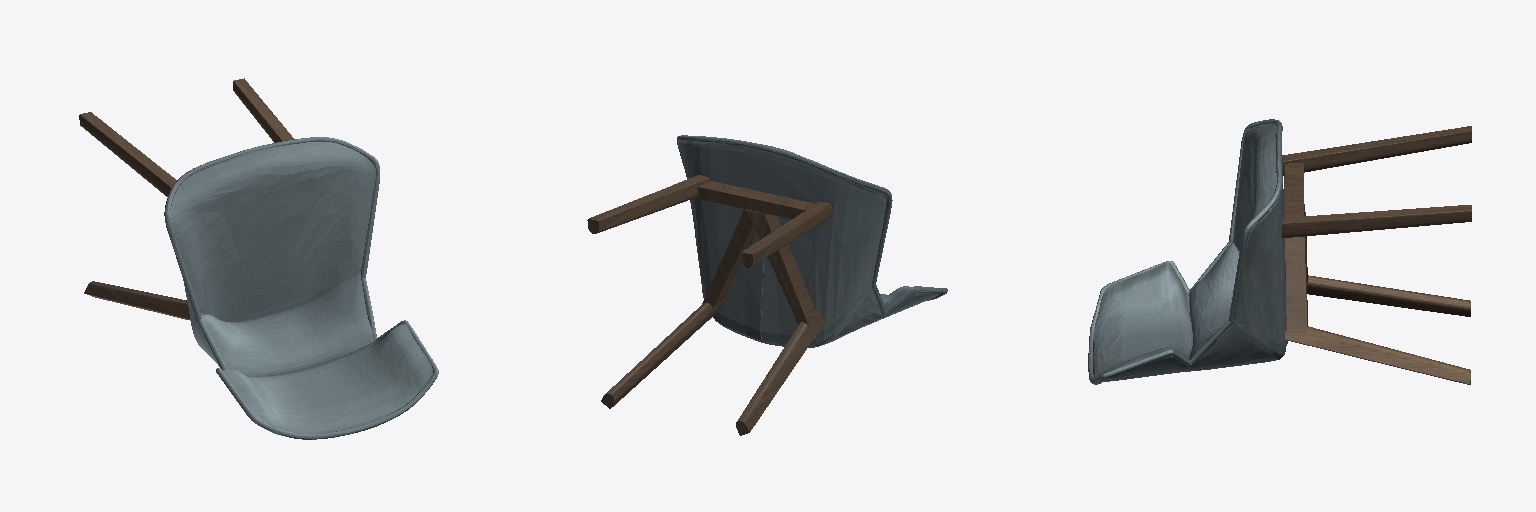
3 views of the same model, side by side, from view 1: azimuth 30°, elevation 25°; view 2: azimuth 150°, elevation 25°; view 3: azimuth 270°, elevation 25° (orthographic).
Size of the model in its own units: 0.551 by 0.5356 by 0.8529.
1 materials, 1 textured.